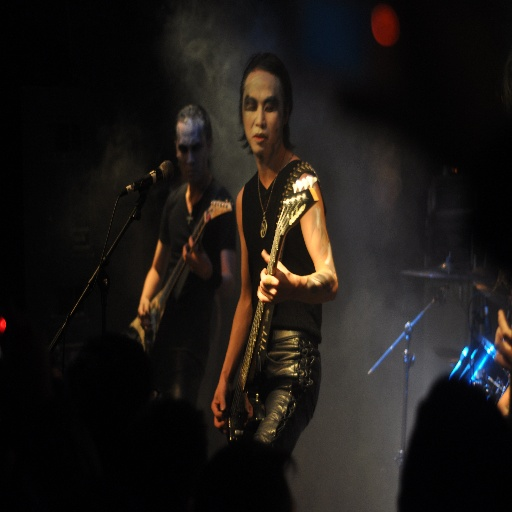hand: (254, 260, 292, 309), (209, 381, 228, 437), (495, 307, 511, 368), (180, 236, 200, 274), (136, 293, 153, 336)
